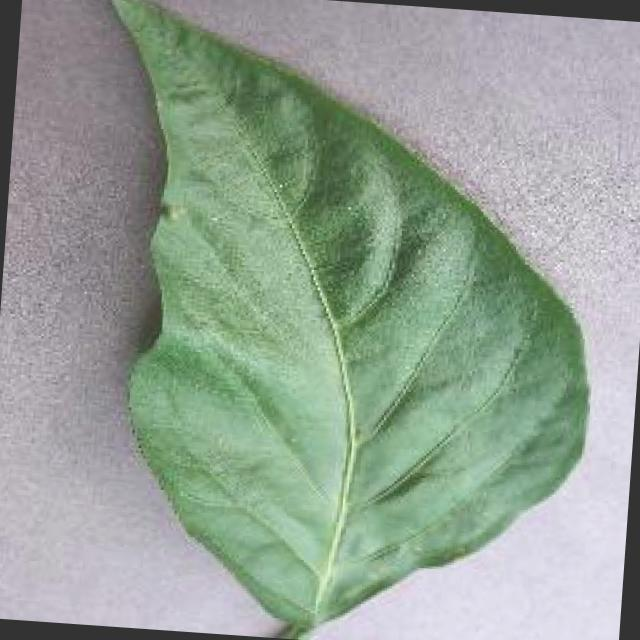Leaf: (15, 0, 618, 639)
